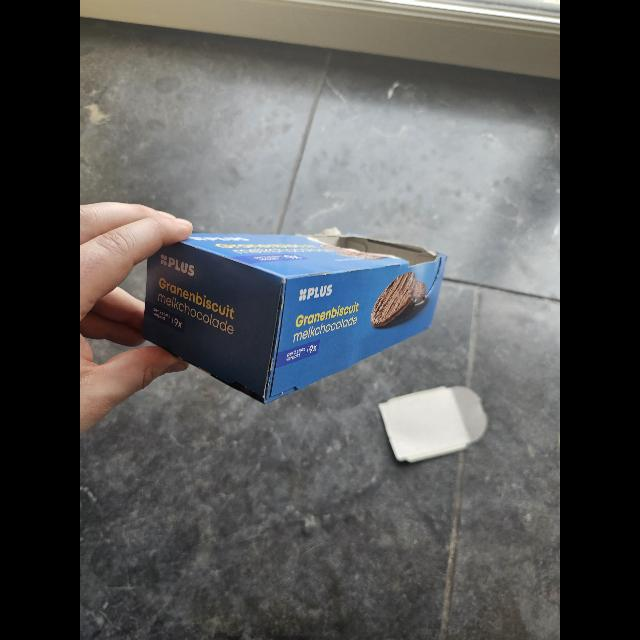Cardboard: (142, 229, 448, 403), (381, 383, 492, 469)
